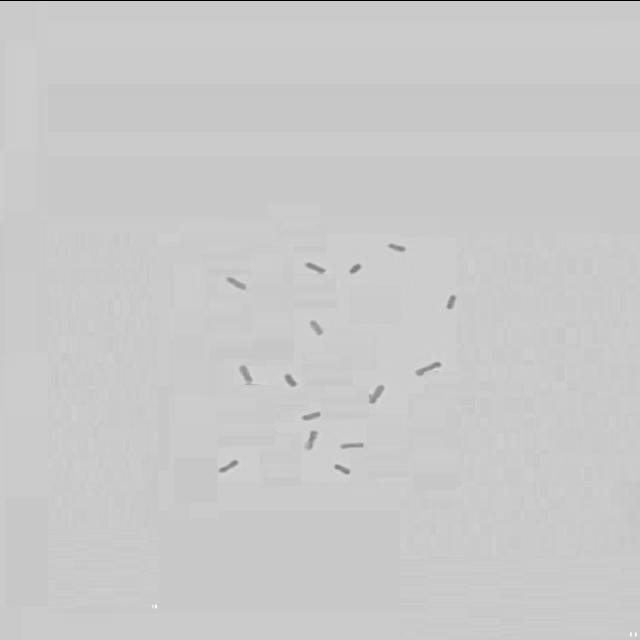E-coli: (410, 356, 450, 382), (365, 380, 393, 408), (216, 455, 244, 477), (302, 428, 325, 452), (221, 274, 251, 292), (297, 259, 327, 277), (385, 235, 410, 253), (238, 363, 258, 385), (306, 316, 326, 336), (344, 261, 366, 279), (298, 408, 325, 422), (442, 291, 460, 312), (339, 438, 369, 450), (278, 373, 300, 389), (333, 461, 353, 475)
